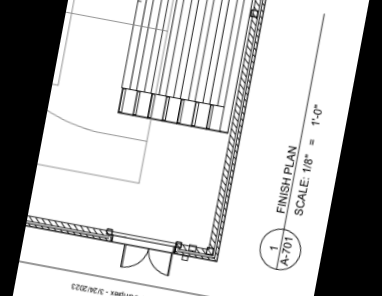double door: (117, 241, 176, 280)
wall: (203, 0, 274, 263), (27, 212, 114, 243), (175, 241, 223, 264)
